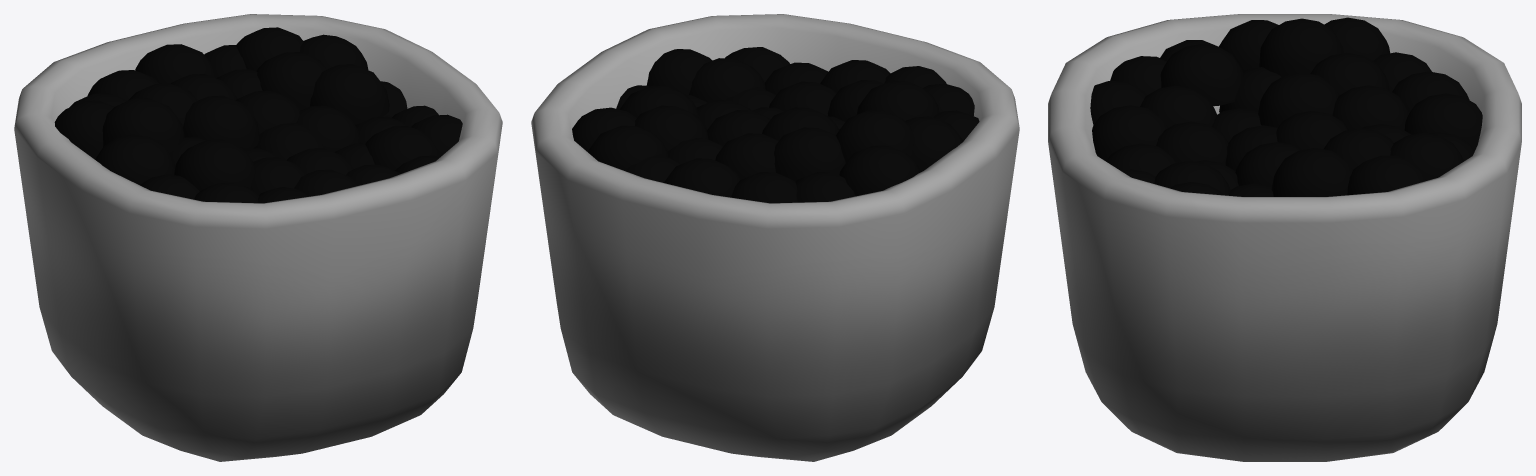
File: super_jar.glb
3 views of the same model, side by side, from view 1: azimuth 30°, elevation 25°; view 2: azimuth 150°, elevation 25°; view 3: azimuth 270°, elevation 25° (orthographic). The views are drawn at different scales.
Visible parts, largest first — view 1: Cube.001; view 2: Cube.001; view 3: Cube.001.
Boxes of the visible parts, x1,y1,x2,y2 form: Cube.001: (14,14,502,461); Cube.001: (531,14,1019,461); Cube.001: (1048,14,1521,461).
Size of the model in its own units: 0.3838 by 0.3099 by 0.3838.
Materials: 1 (1 with a texture image).
